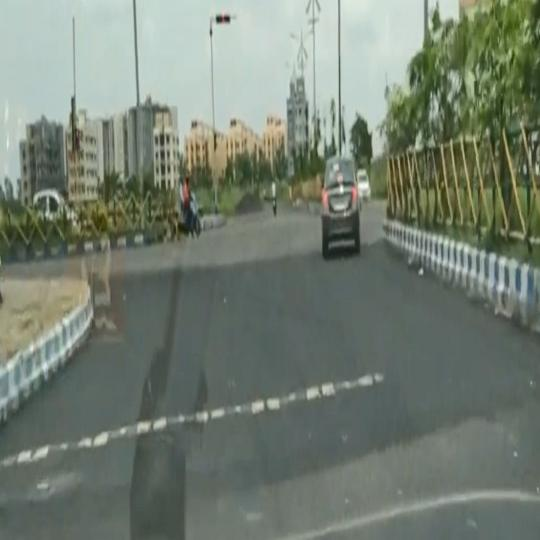Speed Bump: (0, 370, 384, 467)
